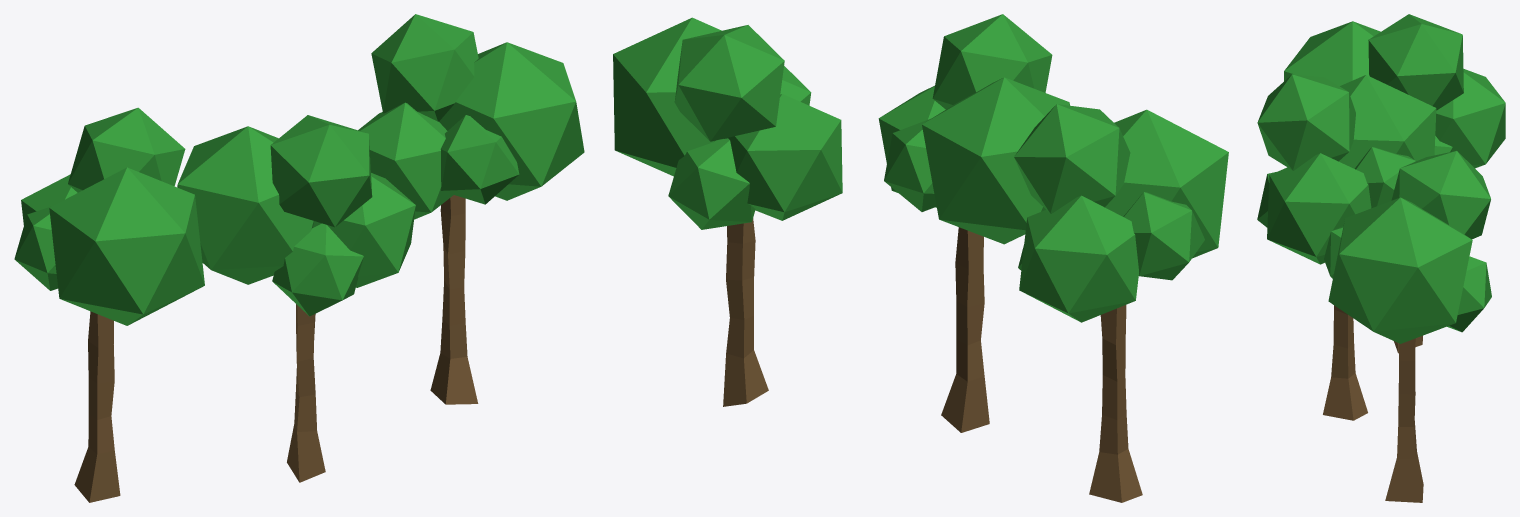
The model's file is Arvores.fbx.
3 renders of one model, left to right at view 1: azimuth 30°, elevation 25°; view 2: azimuth 150°, elevation 25°; view 3: azimuth 270°, elevation 25°, orthographic. The views are drawn at different scales.
Visible parts, largest first — view 1: Cube.006; view 2: Cube.006; view 3: Cube.006.
Part boxes in pixels (x1,y1,x2,y2): Cube.006: (14,14,584,502); Cube.006: (613,14,1228,502); Cube.006: (1257,14,1505,502).
Size of the model in its own units: 333 by 220 by 142.
